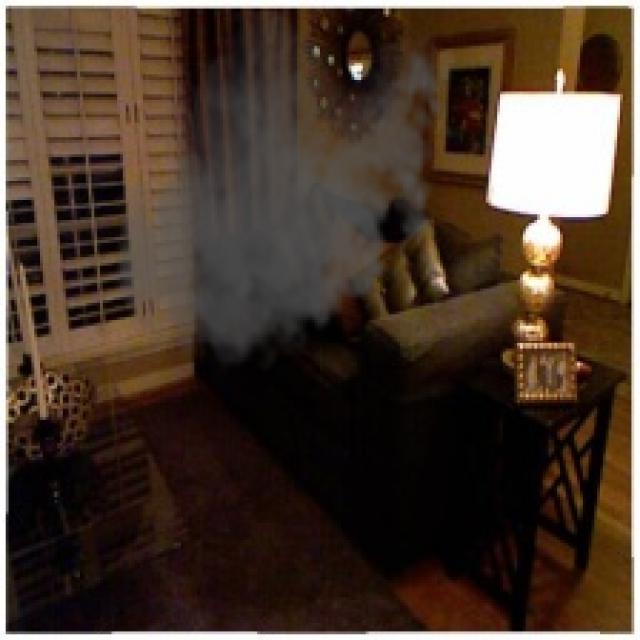Smoke: (108, 11, 454, 383)
